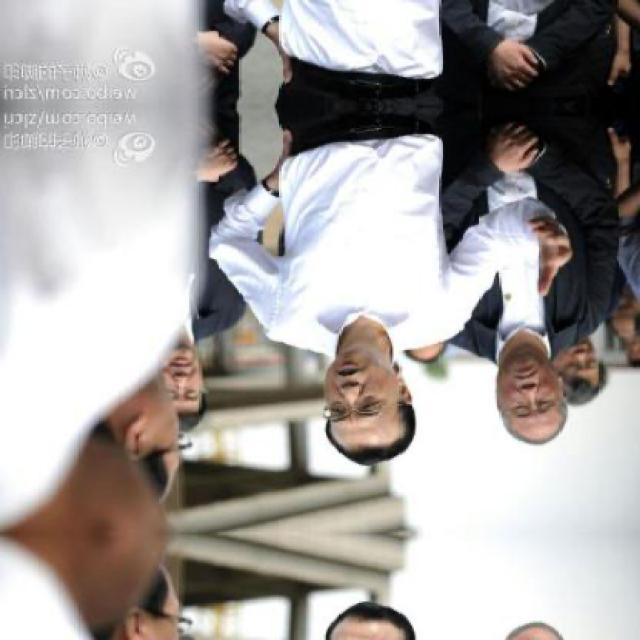sin casco: (311, 335, 437, 456), (466, 340, 586, 454)
